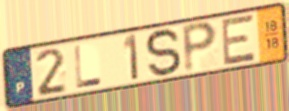1: (122, 32, 141, 82)
2: (34, 47, 70, 99)
E: (221, 12, 258, 68)
L: (72, 44, 104, 90)
P: (181, 20, 220, 75)
S: (143, 27, 183, 81)
